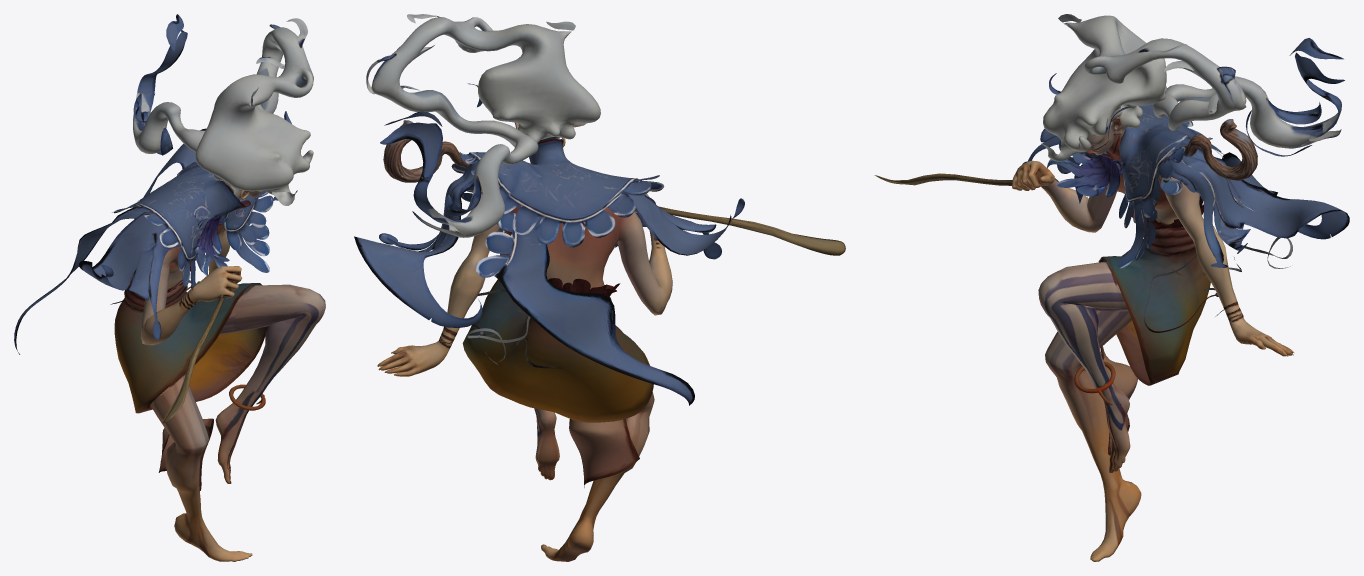
Rendered from fool.glb.
The picture shows the model from 3 angles, left to right: view 1: azimuth 30°, elevation 25°; view 2: azimuth 150°, elevation 25°; view 3: azimuth 270°, elevation 25°; orthographic projection. The views are drawn at different scales.
Visible parts, largest first — view 1: tripo_node_c93e5e51-239a-42d0-939c-7ca8555fb2cd; view 2: tripo_node_c93e5e51-239a-42d0-939c-7ca8555fb2cd; view 3: tripo_node_c93e5e51-239a-42d0-939c-7ca8555fb2cd.
Boxes of the visible parts, bbox=[...] form: tripo_node_c93e5e51-239a-42d0-939c-7ca8555fb2cd: bbox=[14, 14, 325, 561]; tripo_node_c93e5e51-239a-42d0-939c-7ca8555fb2cd: bbox=[354, 14, 845, 561]; tripo_node_c93e5e51-239a-42d0-939c-7ca8555fb2cd: bbox=[874, 14, 1349, 561].
Bounding box in the file's own units: 0.6066 × 0.9995 × 0.7633.
Materials: 1 (1 with a texture image).
